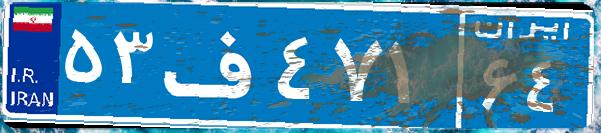1: (385, 28, 445, 110)
3: (110, 28, 158, 105)
4: (273, 28, 330, 110), (525, 38, 570, 115)
5: (57, 26, 110, 107)
6: (475, 38, 525, 113)
7: (330, 28, 385, 110)
ف: (158, 15, 273, 115)
